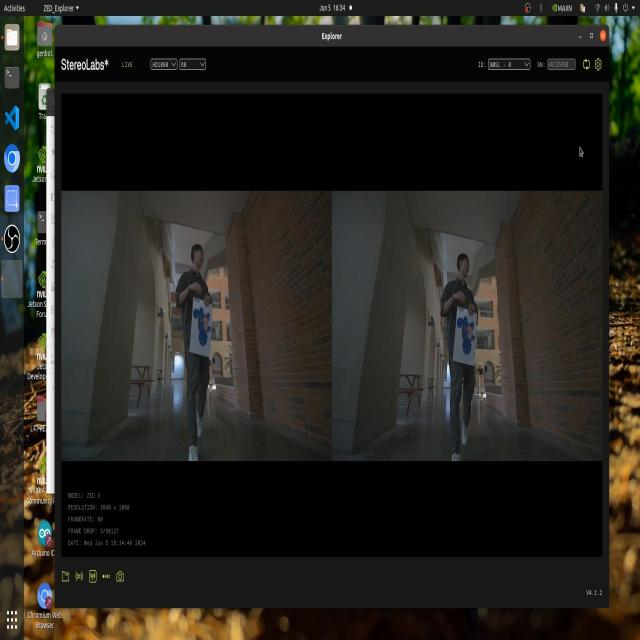blue: (184, 295, 210, 347), (456, 312, 477, 363)
